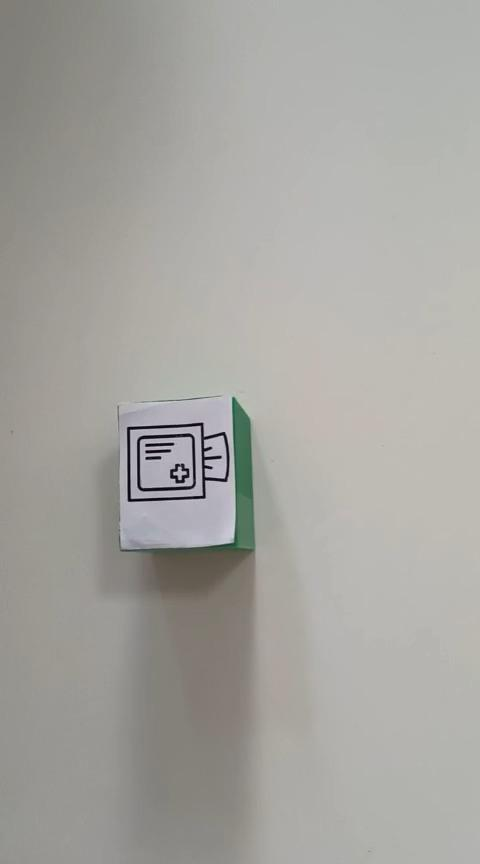Gauze: (115, 393, 255, 552)
